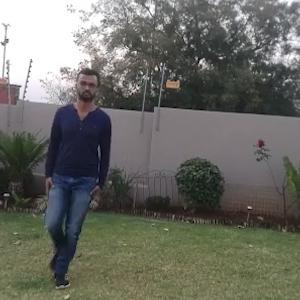follow: (43, 66, 113, 287)
